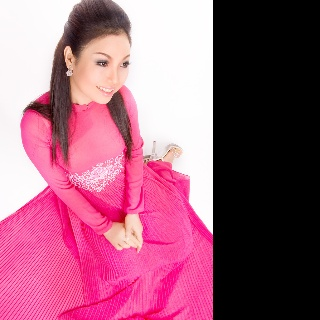without_mask: (72, 33, 129, 104)
